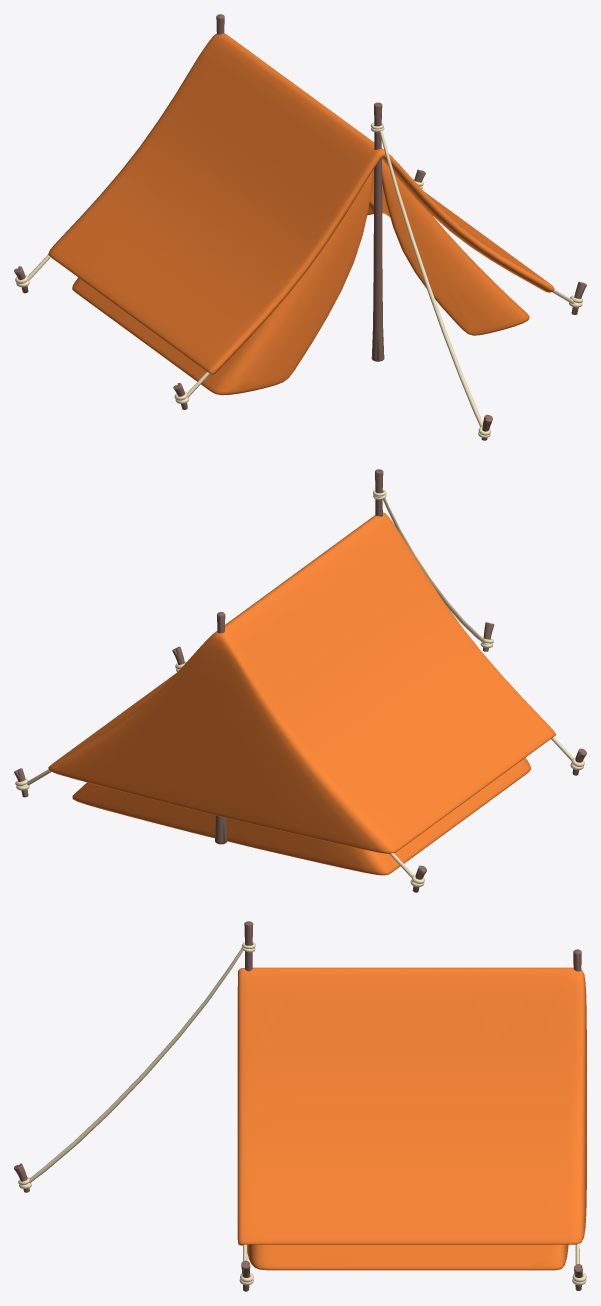
Rendered from tenda.glb.
3 views of the same model, one above another, from view 1: azimuth 30°, elevation 25°; view 2: azimuth 150°, elevation 25°; view 3: azimuth 270°, elevation 25° (orthographic). The views are drawn at different scales.
Parts seen in each view (by area): view 1: Object_45, Object_7, Object_22; view 2: Object_45, Object_22, Object_7; view 3: Object_45, Object_22, Object_7.
Boxes of the visible parts, box(x1,y1,x2,y2) form: Object_45: box(48, 33, 554, 395); Object_7: box(14, 14, 586, 440); Object_22: box(15, 122, 582, 437); Object_45: box(48, 512, 555, 875); Object_22: box(15, 489, 584, 886); Object_7: box(14, 469, 586, 892); Object_45: box(237, 967, 586, 1270); Object_22: box(18, 942, 586, 1285); Object_7: box(14, 921, 582, 1291).
Size of the model in its own units: 2.01 by 1.2 by 2.32.
